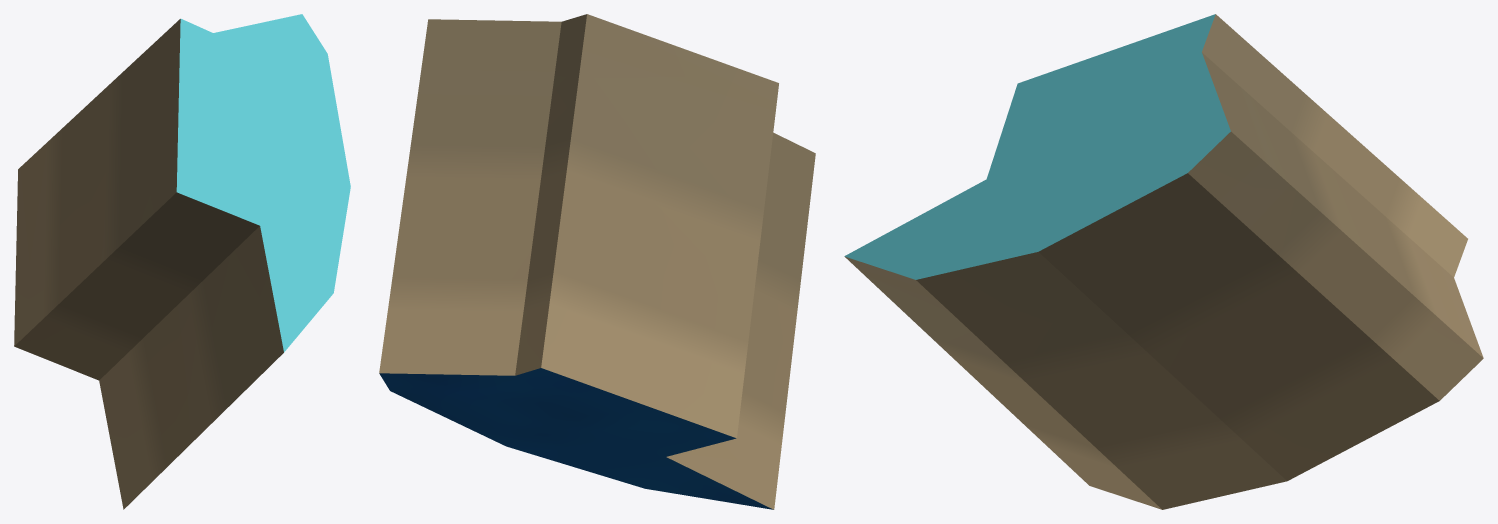
File: 068f_Bosnia_and_Herzegovina.glb
The picture shows the model from 3 angles, left to right: view 1: azimuth 30°, elevation 25°; view 2: azimuth 150°, elevation 25°; view 3: azimuth 270°, elevation 25°; orthographic projection. The views are drawn at different scales.
Visible parts, largest first — view 1: part_0; view 2: part_0; view 3: part_0.
Boxes of the visible parts, x1,y1,x2,y2 form: part_0: (14,14,350,509); part_0: (379,14,815,509); part_0: (844,14,1483,509).
Bounding box in the file's own units: 0.2072 × 0.3005 × 0.3241.
1 material, 1 textured.
